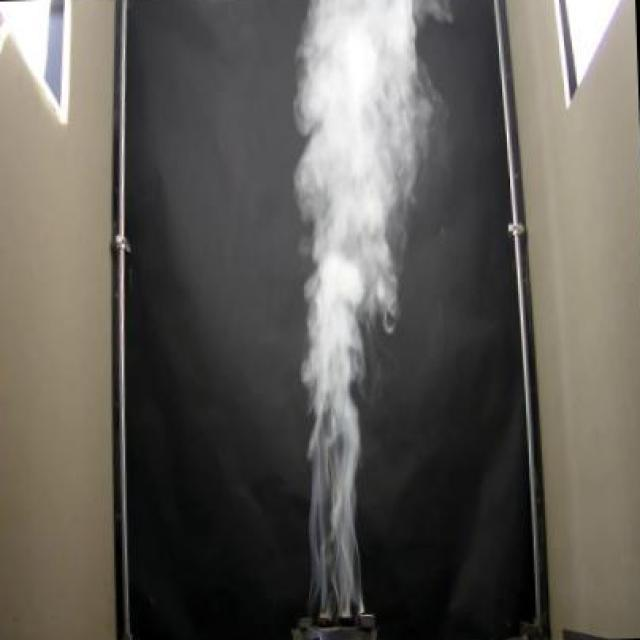fire: (290, 0, 457, 600)
